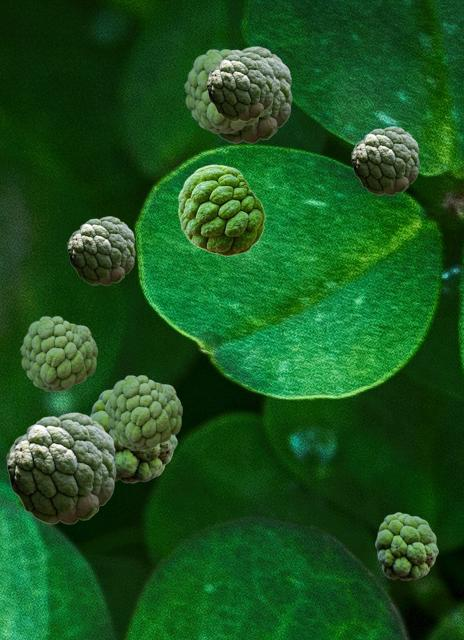atis: (6, 412, 115, 523), (89, 389, 176, 482), (178, 164, 264, 255), (215, 46, 291, 142), (184, 49, 269, 132), (20, 316, 96, 390), (105, 375, 181, 449), (351, 126, 418, 194), (206, 52, 273, 120), (67, 216, 134, 284), (375, 512, 437, 579)
